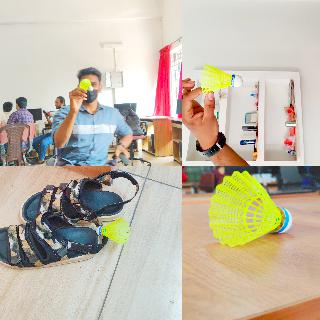shuttlecock: (207, 170, 293, 247), (200, 64, 242, 92), (96, 218, 130, 244), (79, 78, 93, 90)
